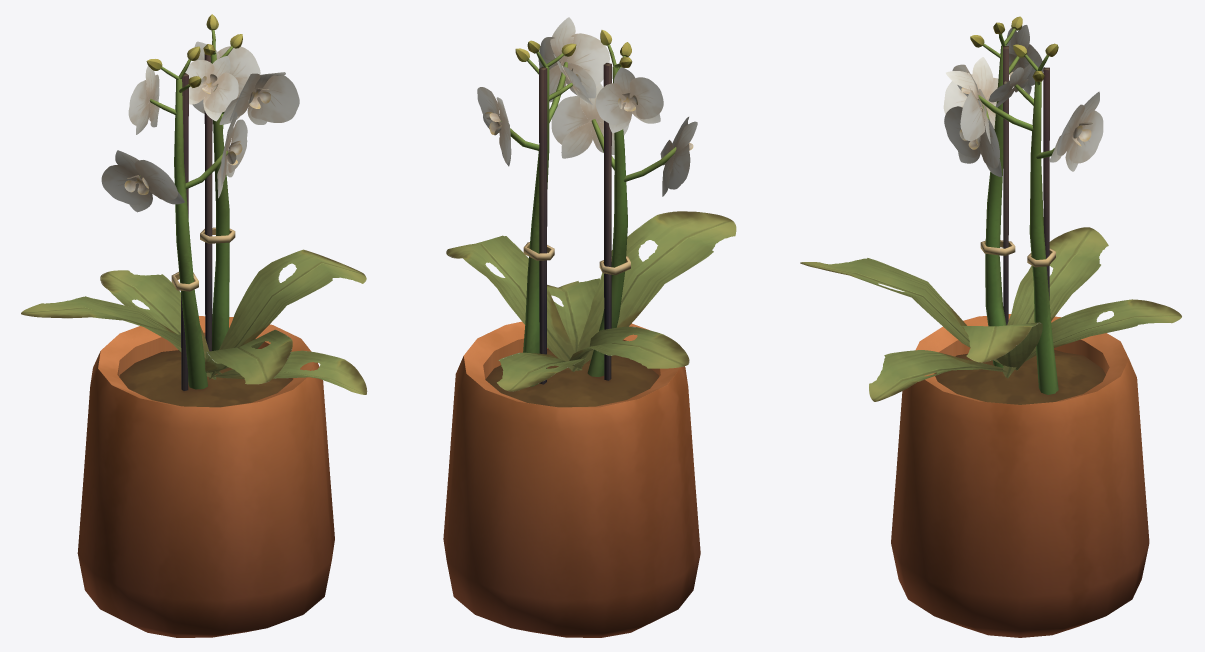
The model's file is MDL_OrchidUnhealthy.fbx.
The picture shows the model from 3 angles, left to right: view 1: azimuth 30°, elevation 25°; view 2: azimuth 150°, elevation 25°; view 3: azimuth 270°, elevation 25°; orthographic projection.
Visible parts, largest first — view 1: MDL_OrchidUnhealthy; view 2: MDL_OrchidUnhealthy; view 3: MDL_OrchidUnhealthy.
Part boxes in pixels (<box>): MDL_OrchidUnhealthy: <box>21,14,367,637</box>; MDL_OrchidUnhealthy: <box>443,17,736,637</box>; MDL_OrchidUnhealthy: <box>800,16,1181,637</box>.
Size of the model in its own units: 45.55 by 80.75 by 51.57.
